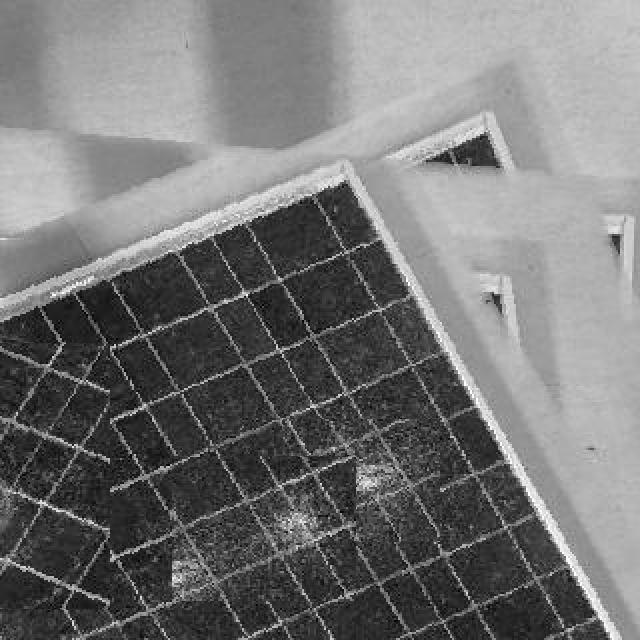Physical-damage: (3, 185, 611, 640), (0, 343, 110, 609), (172, 456, 356, 601), (283, 419, 440, 542)
